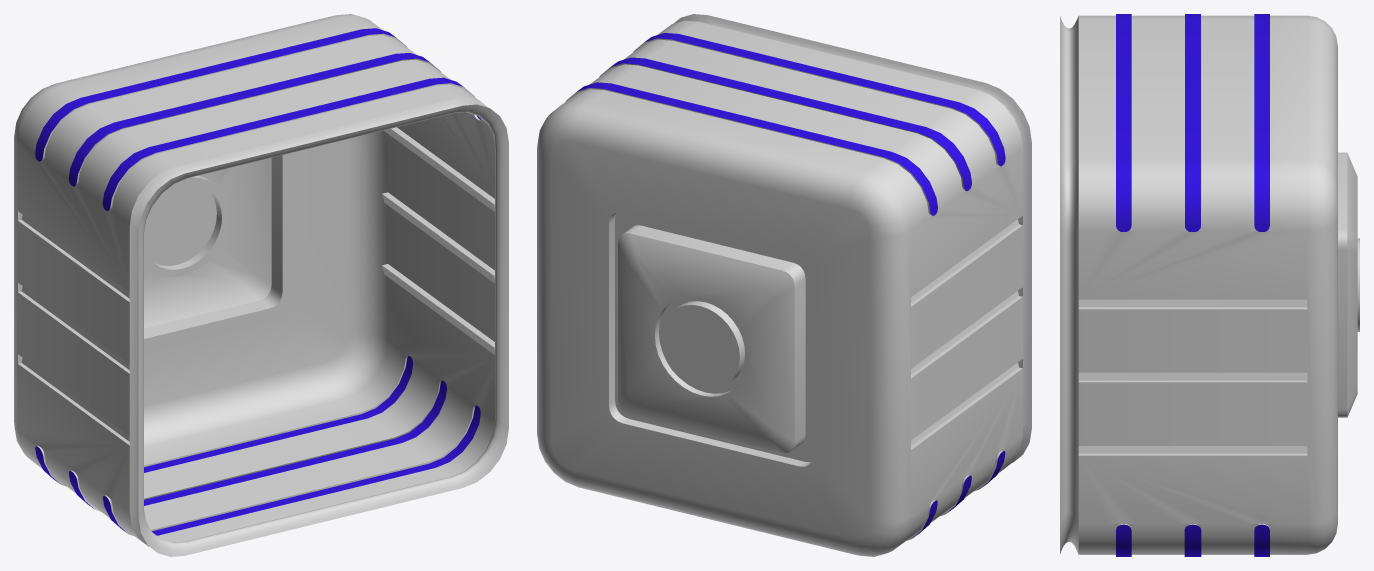
File: FBX_Kitchenette_Oven.fbx
3 renders of one model, left to right at view 1: azimuth 30°, elevation 25°; view 2: azimuth 150°, elevation 25°; view 3: azimuth 270°, elevation 25°, orthographic. The views are drawn at different scales.
Parts seen in each view (by area): view 1: Walls_Plain.000; view 2: Walls_Plain.000; view 3: Walls_Plain.000.
Boxes of the visible parts, x1=… form: Walls_Plain.000: x1=14, y1=14, x2=508, y2=556; Walls_Plain.000: x1=537, y1=14, x2=1031, y2=556; Walls_Plain.000: x1=1060, y1=14, x2=1359, y2=556.
Bounding box in the file's own units: 61.92 × 60.91 × 42.07.
